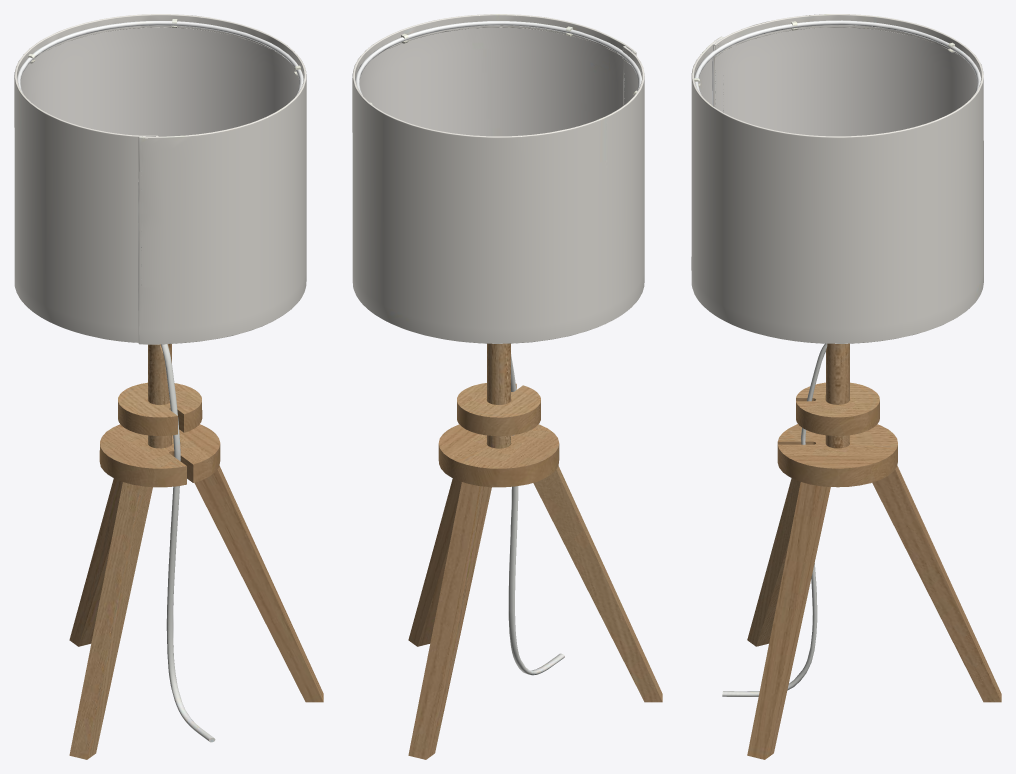
Rendered from LAUTERS table lamp.glb.
3 views of the same model, side by side, from view 1: azimuth 30°, elevation 25°; view 2: azimuth 150°, elevation 25°; view 3: azimuth 270°, elevation 25° (orthographic).
Parts seen in each view (by area): view 1: 50404895-LAUTERS001; view 2: 50404895-LAUTERS001; view 3: 50404895-LAUTERS001.
Boxes of the visible parts, <box> form: 50404895-LAUTERS001: <box>14,14,323,759</box>; 50404895-LAUTERS001: <box>352,14,662,759</box>; 50404895-LAUTERS001: <box>691,14,1001,759</box>.
Size of the model in its own units: 0.2442 by 0.5728 by 0.2578.
1 material, 1 textured.
